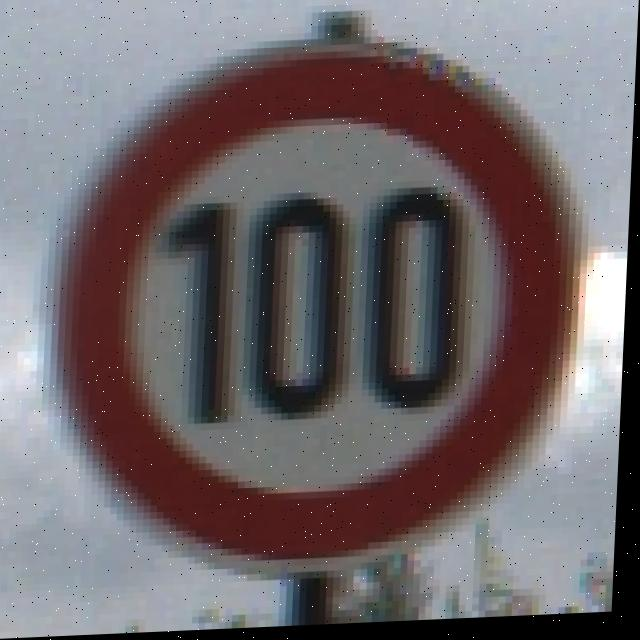speed_limit_100: (61, 33, 596, 554)
